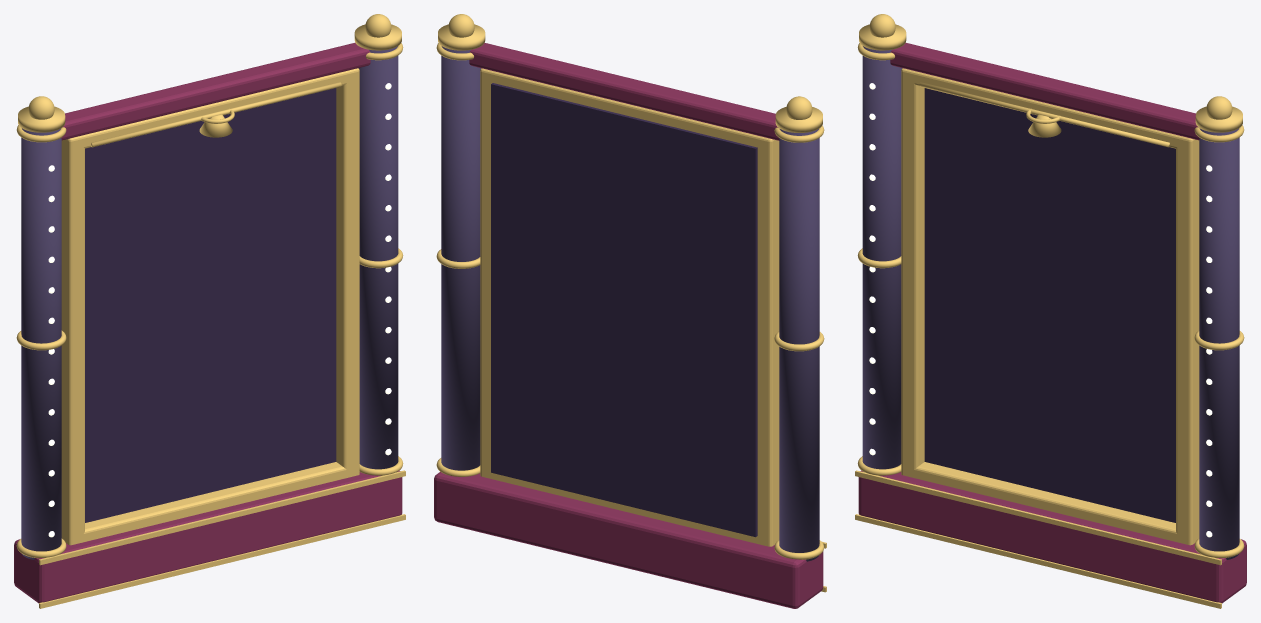
Rendered from plinko.glb.
The picture shows the model from 3 angles, left to right: view 1: azimuth 30°, elevation 25°; view 2: azimuth 150°, elevation 25°; view 3: azimuth 330°, elevation 25°; orthographic projection.
Parts seen in each view (by area): view 1: PL_back, PL_base, PL_col0, PL_col1, PL_fr_l, PL_fr_r, PL_crown, PL_fr_b, PL_fr_t, PL_base_trim, PL_base_trim2, PL_rail (+4 smaller); view 2: PL_back, PL_base, PL_col0, PL_col1, PL_fr_l, PL_crown, PL_fr_r, PL_fr_t, PL_fr_b, PL_cap1, PL_cap0, PL_orb.001; view 3: PL_back, PL_base, PL_col1, PL_col0, PL_fr_r, PL_fr_l, PL_crown, PL_fr_b, PL_fr_t, PL_base_trim, PL_base_trim2, PL_rail (+4 smaller).
Boxes of the visible parts, <box> form: PL_back: <box>85,88,336,522</box>; PL_base: <box>14,470,402,603</box>; PL_col0: <box>21,128,61,559</box>; PL_col1: <box>358,46,398,469</box>; PL_fr_l: <box>61,137,84,545</box>; PL_fr_r: <box>336,68,359,475</box>; PL_crown: <box>61,43,370,140</box>; PL_fr_b: <box>74,462,356,544</box>; PL_fr_t: <box>73,69,356,149</box>; PL_base_trim: <box>39,470,405,565</box>; PL_base_trim2: <box>39,514,405,608</box>; PL_rail: <box>91,82,341,147</box>; PL_back: <box>491,83,757,537</box>; PL_base: <box>434,472,823,608</box>; PL_col0: <box>779,129,819,561</box>; PL_col1: <box>441,46,480,470</box>; PL_fr_l: <box>757,138,779,546</box>; PL_crown: <box>469,43,779,140</box>; PL_fr_r: <box>480,68,492,479</box>; PL_fr_t: <box>483,69,767,147</box>; PL_fr_b: <box>483,469,766,545</box>; PL_cap1: <box>438,24,485,50</box>; PL_cap0: <box>775,107,822,132</box>; PL_orb.001: <box>448,14,474,37</box>; PL_back: <box>924,88,1175,522</box>; PL_base: <box>858,470,1246,603</box>; PL_col1: <box>1199,128,1239,559</box>; PL_col0: <box>862,46,902,469</box>; PL_fr_r: <box>1176,137,1199,545</box>; PL_fr_l: <box>901,68,924,477</box>; PL_crown: <box>890,43,1199,140</box>; PL_fr_b: <box>904,462,1186,544</box>; PL_fr_t: <box>904,69,1187,148</box>; PL_base_trim: <box>855,470,1221,565</box>; PL_base_trim2: <box>855,514,1221,608</box>; PL_rail: <box>919,82,1169,147</box>.
Bounding box in the file's own units: 25.04 × 31.4 × 3.57.
